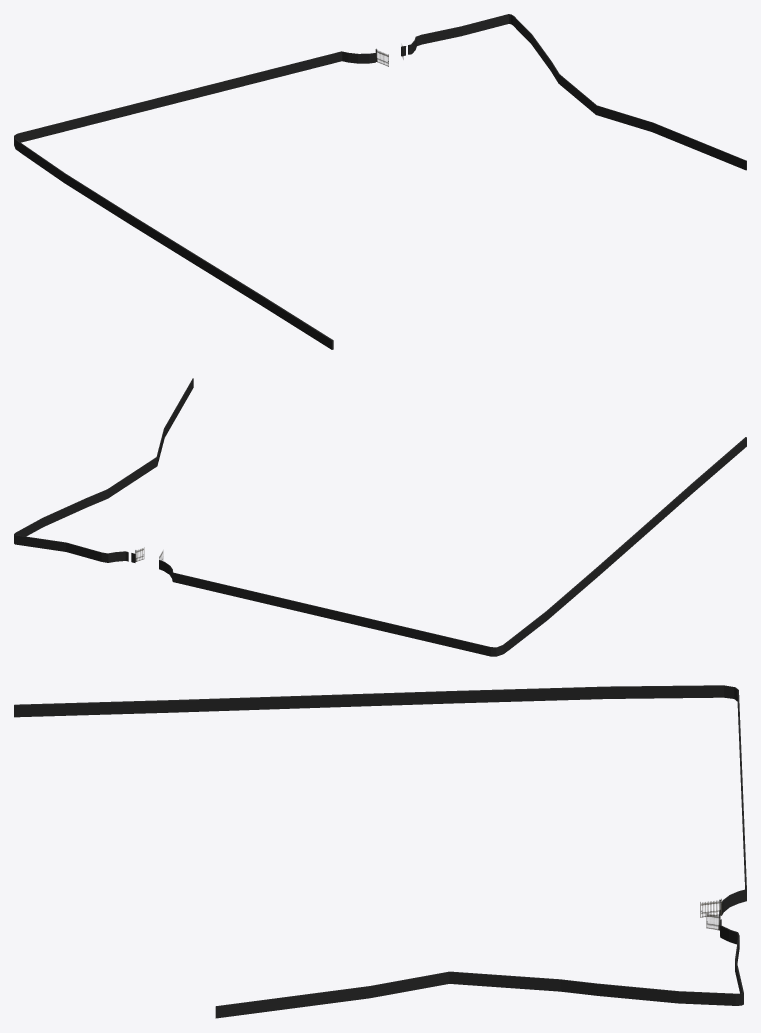
The model's file is wall.glb.
3 renders of one model, top to bottom at view 1: azimuth 30°, elevation 25°; view 2: azimuth 150°, elevation 25°; view 3: azimuth 270°, elevation 25°, orthographic. The views are drawn at different scales.
Parts seen in each view (by area): view 1: gate; view 2: gate; view 3: gate.
Boxes of the visible parts, x1=… form: gate: x1=14, y1=14, x2=746, y2=349; gate: x1=14, y1=378, x2=746, y2=656; gate: x1=14, y1=685, x2=746, y2=1018.
Bounding box in the file's own units: 80.41 × 2.43 × 77.63.
Materials: 2 (1 with a texture image).
